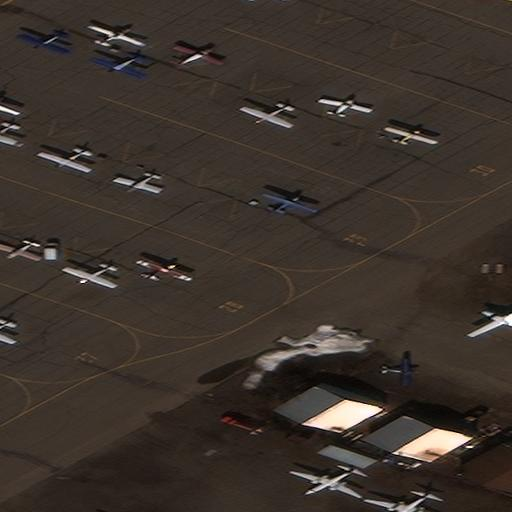Medium Civil Transport: (362, 492, 437, 512), (465, 307, 512, 335)
Small Civil Transport: (289, 467, 359, 498), (89, 53, 143, 79), (61, 264, 113, 289), (35, 149, 87, 173), (239, 104, 290, 128), (88, 24, 145, 45), (16, 31, 64, 55), (139, 259, 193, 279), (177, 44, 223, 67), (262, 193, 317, 212), (380, 358, 417, 385), (385, 126, 438, 144), (112, 173, 158, 193), (321, 98, 373, 115), (0, 241, 37, 262), (0, 123, 19, 147), (0, 320, 11, 344)
